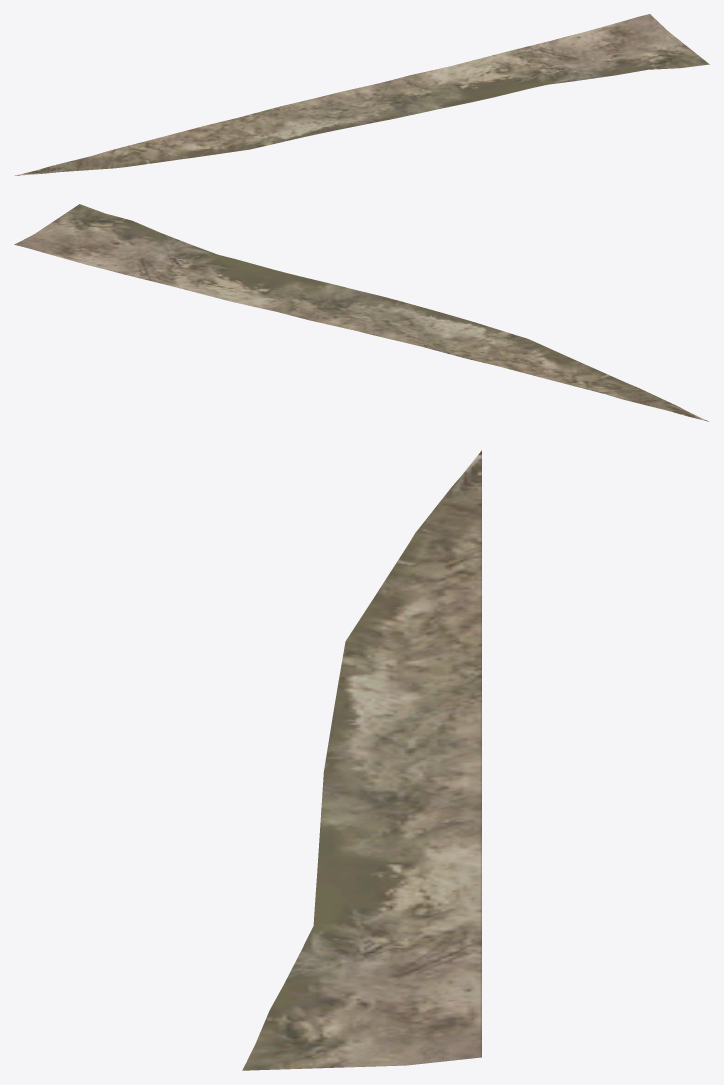
The model's file is CM_Terrain_24489639_6819589.fbx.
3 views of the same model, one above another, from view 1: azimuth 30°, elevation 25°; view 2: azimuth 150°, elevation 25°; view 3: azimuth 270°, elevation 25° (orthographic). The views are drawn at different scales.
Visible parts, largest first — view 1: CM_Terrain_24489639_6819589_LOD0; view 2: CM_Terrain_24489639_6819589_LOD0; view 3: CM_Terrain_24489639_6819589_LOD0.
Part boxes in pixels (box(x1,y1,x2,y2)): CM_Terrain_24489639_6819589_LOD0: box(15, 14, 709, 175); CM_Terrain_24489639_6819589_LOD0: box(14, 204, 708, 421); CM_Terrain_24489639_6819589_LOD0: box(242, 450, 481, 1070).
Size of what is drawn, in the model's own units: 79.64 by 0.904 by 13.
